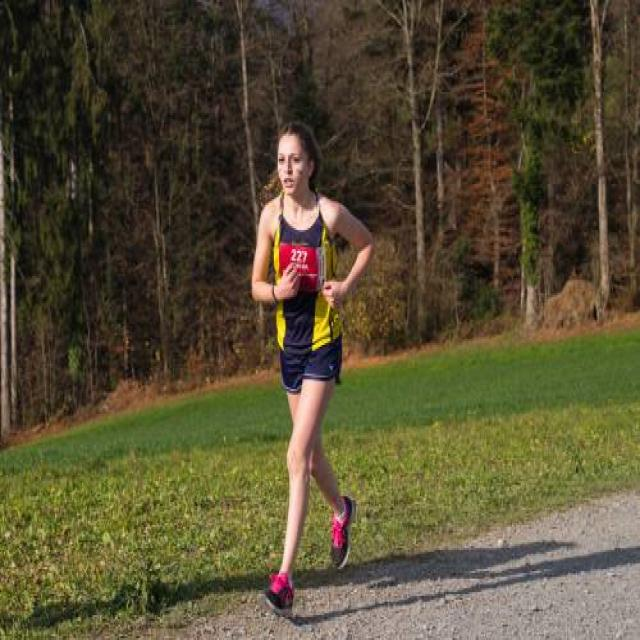running: (250, 117, 381, 620)
